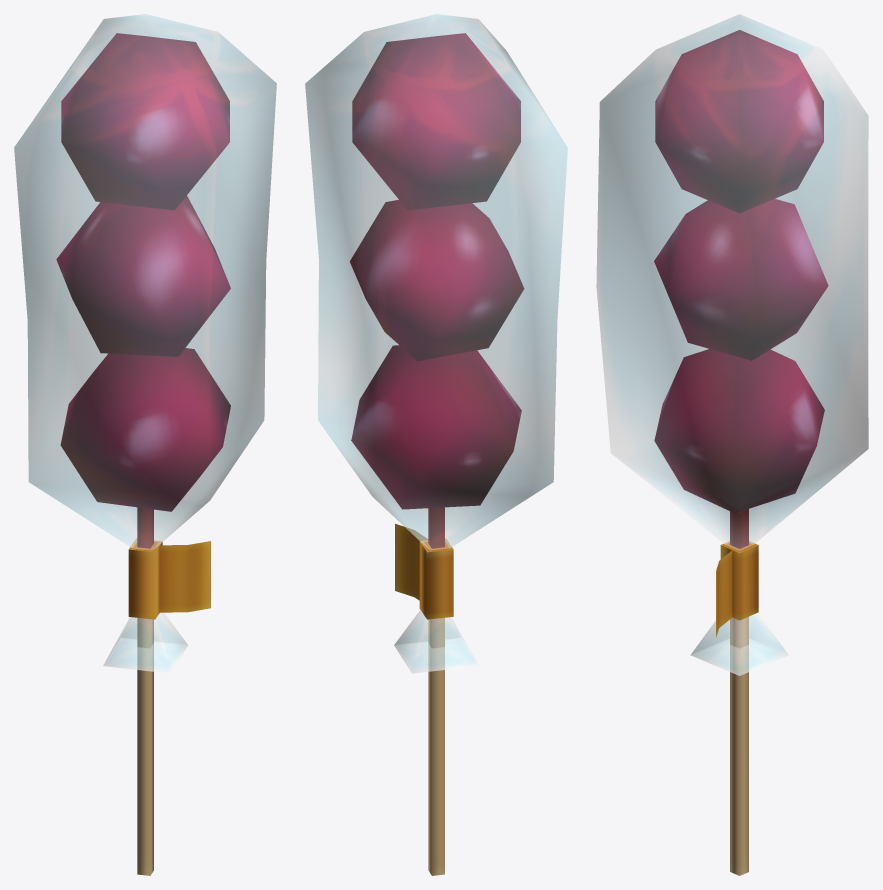
Rendered from jsf_Grape_04.fbx.
The picture shows the model from 3 angles, left to right: view 1: azimuth 30°, elevation 25°; view 2: azimuth 150°, elevation 25°; view 3: azimuth 270°, elevation 25°; orthographic projection.
Visible parts, largest first — view 1: Bag, Grape, Tape; view 2: Bag, Grape, Tape; view 3: Bag, Grape, Tape.
Part boxes in pixels (x1,y1,x2,y2): Bag: (14,14,276,673); Grape: (56,33,230,875); Tape: (128,538,210,619); Bag: (305,14,567,673); Grape: (350,33,524,875); Tape: (395,523,453,619); Bag: (596,14,868,675); Grape: (654,30,828,875); Tape: (716,541,758,637).
Size of the model in its own units: 4.06 by 12.68 by 3.64.
